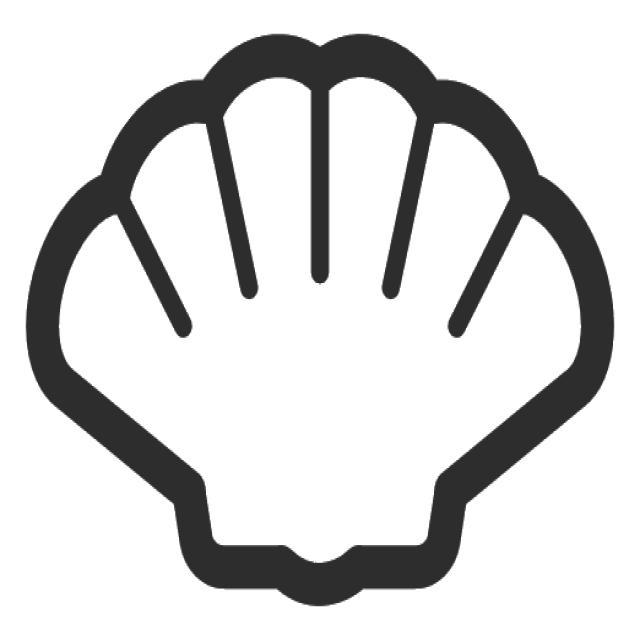shell: (13, 24, 625, 624)
